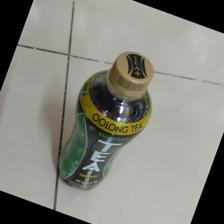Olong: (57, 51, 155, 194)
